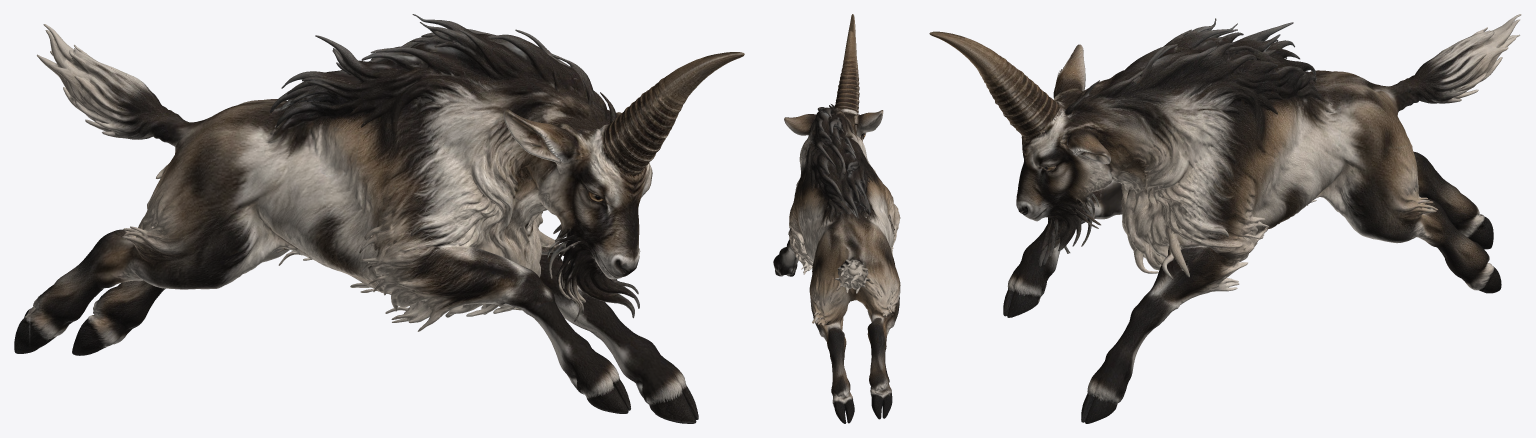
Rendered from goat.glb.
The picture shows the model from 3 angles, left to right: view 1: azimuth 30°, elevation 25°; view 2: azimuth 150°, elevation 25°; view 3: azimuth 270°, elevation 25°; orthographic projection. The views are drawn at different scales.
Size of the model in its own units: 1.39 by 1.39 by 1.9.
Materials: 1 (1 with a texture image).
